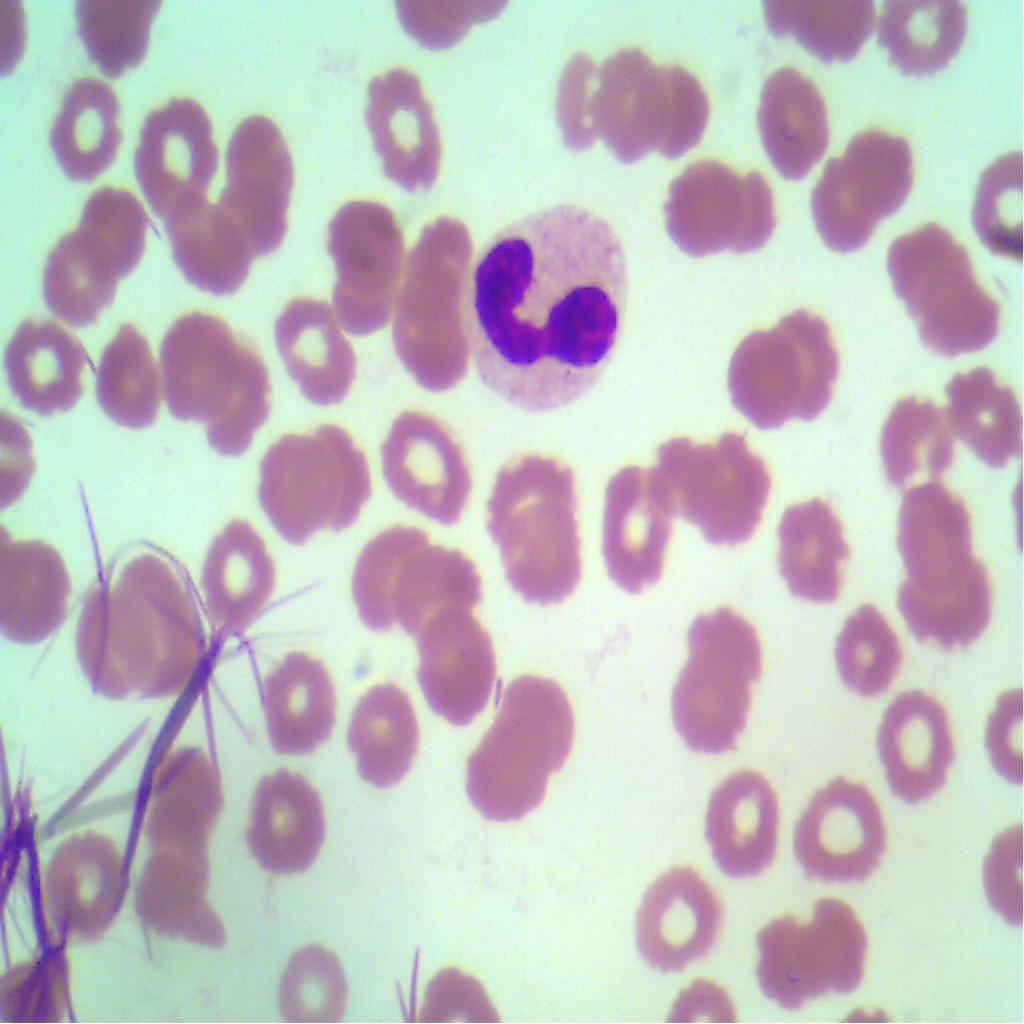Eritrosit: (362, 58, 456, 207), (116, 554, 213, 698), (375, 399, 471, 541), (160, 177, 258, 302), (754, 481, 846, 608), (680, 426, 778, 545), (793, 765, 888, 887), (759, 296, 848, 426), (246, 634, 338, 757), (128, 85, 218, 210), (628, 851, 718, 974), (44, 820, 130, 948), (390, 254, 469, 391), (269, 294, 358, 415), (348, 669, 428, 802), (238, 767, 328, 884), (878, 478, 966, 595), (219, 109, 296, 242), (598, 456, 670, 598), (421, 604, 501, 730), (878, 675, 956, 804), (128, 835, 219, 942), (462, 730, 548, 842), (661, 154, 748, 264), (503, 500, 588, 612), (898, 561, 995, 658), (702, 761, 778, 882), (748, 64, 833, 172), (0, 530, 74, 654), (951, 365, 1023, 492), (70, 575, 146, 695), (866, 394, 956, 495), (43, 78, 134, 177), (198, 340, 274, 458), (299, 415, 375, 530), (803, 884, 874, 1007), (68, 180, 153, 278), (841, 116, 923, 214), (158, 305, 233, 412), (266, 934, 356, 1023), (0, 310, 78, 412), (203, 518, 274, 630), (491, 451, 578, 542), (879, 211, 961, 307), (495, 666, 571, 768), (154, 727, 228, 831), (33, 225, 115, 318), (322, 192, 402, 287), (88, 319, 162, 421), (671, 655, 744, 758), (874, 0, 970, 78), (686, 602, 764, 698), (259, 431, 326, 542), (923, 274, 1002, 368), (346, 518, 418, 621), (393, 545, 478, 632), (595, 51, 661, 162), (726, 322, 796, 426), (541, 44, 610, 147), (644, 64, 715, 164), (750, 904, 818, 1007), (806, 162, 876, 257), (713, 157, 778, 258), (832, 605, 906, 692), (144, 787, 208, 881)
Neutrofil: (458, 196, 638, 422)
